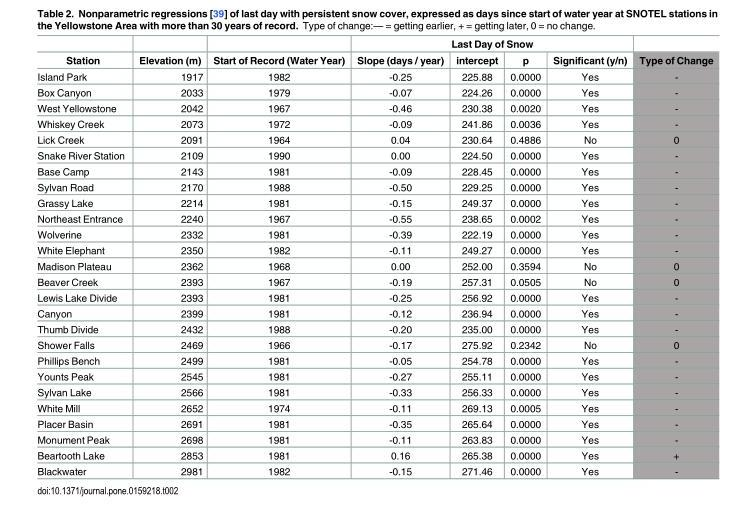table: (36, 37, 712, 476)
table column: (207, 37, 350, 476), (350, 37, 449, 476), (36, 37, 131, 476), (546, 37, 632, 476), (632, 37, 712, 476), (131, 37, 207, 476), (449, 37, 503, 476), (503, 37, 546, 476)
table column header: (36, 37, 712, 67)
table row: (36, 67, 712, 84), (36, 51, 712, 67), (36, 99, 712, 115), (36, 115, 712, 131), (36, 131, 712, 147), (36, 162, 712, 178), (36, 178, 712, 194), (36, 194, 712, 210), (36, 210, 712, 226), (36, 241, 712, 257), (36, 257, 712, 273), (36, 273, 712, 289), (36, 304, 712, 320), (36, 320, 712, 336), (36, 336, 712, 352), (36, 352, 712, 368), (36, 383, 712, 399), (36, 399, 712, 415), (36, 415, 712, 431), (36, 431, 712, 447), (36, 84, 712, 99), (36, 147, 712, 162), (36, 226, 712, 241), (36, 289, 712, 304), (36, 368, 712, 383), (36, 447, 712, 462), (36, 37, 712, 51), (36, 462, 712, 476)
table spanning cell: (207, 37, 350, 67), (350, 37, 632, 51), (36, 37, 131, 67), (632, 37, 712, 67), (131, 37, 207, 67)
